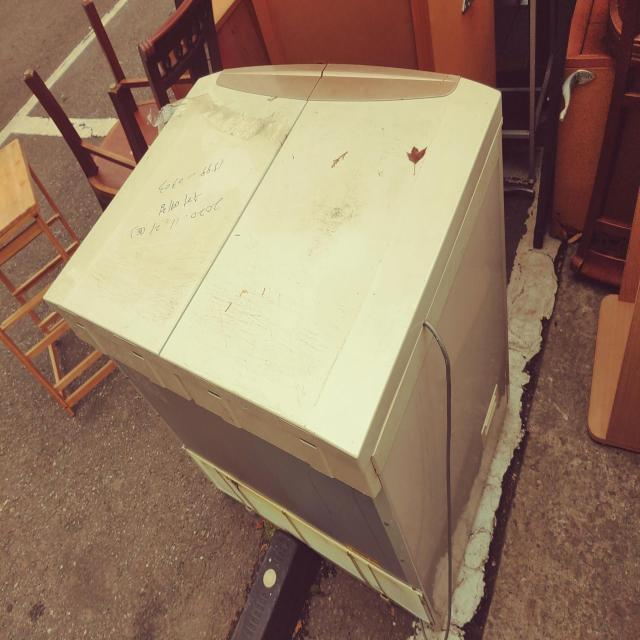refrigerator: (41, 59, 512, 637)
